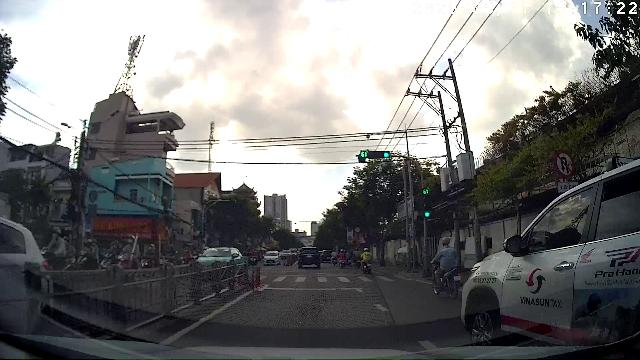124b-cam-oto-quay-dau-xe: (554, 149, 575, 178)
